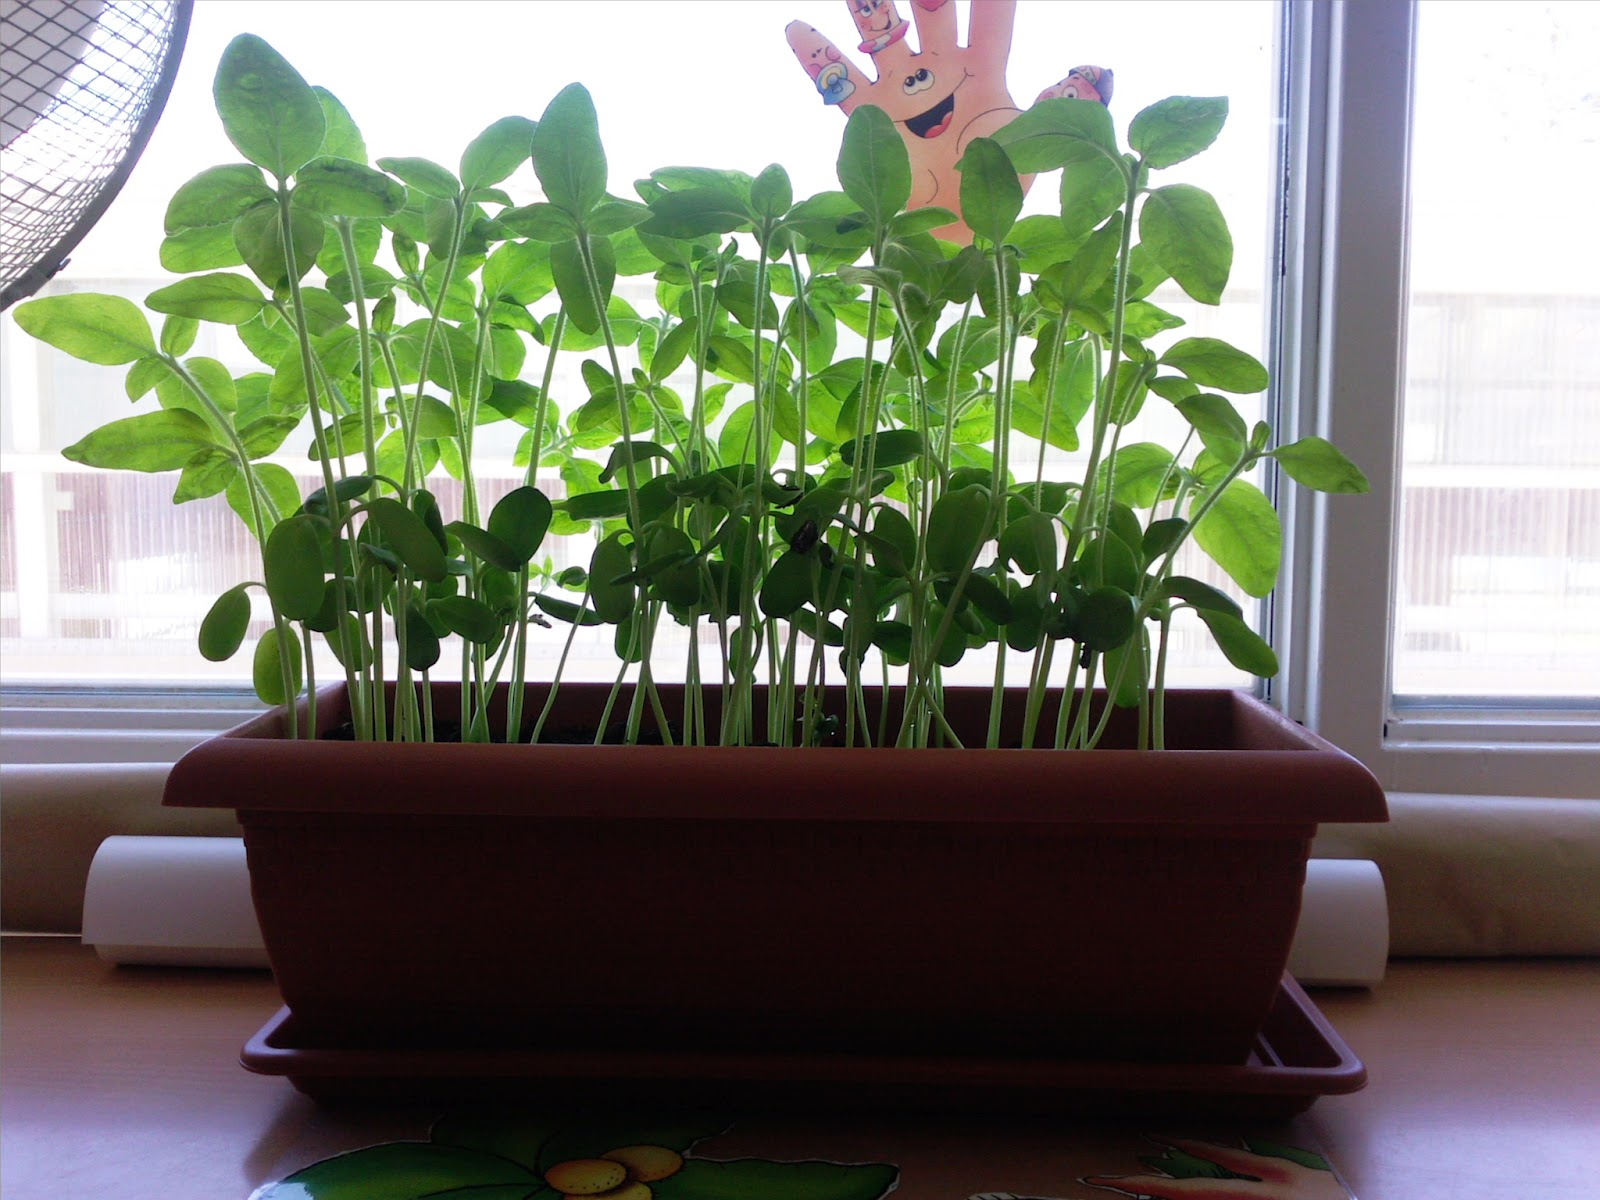girasol2meses: (163, 39, 409, 718), (510, 98, 706, 744), (1010, 93, 1173, 753), (819, 105, 920, 753)
